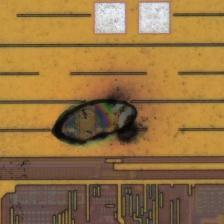BLOCK ETCH: (50, 95, 143, 149)
